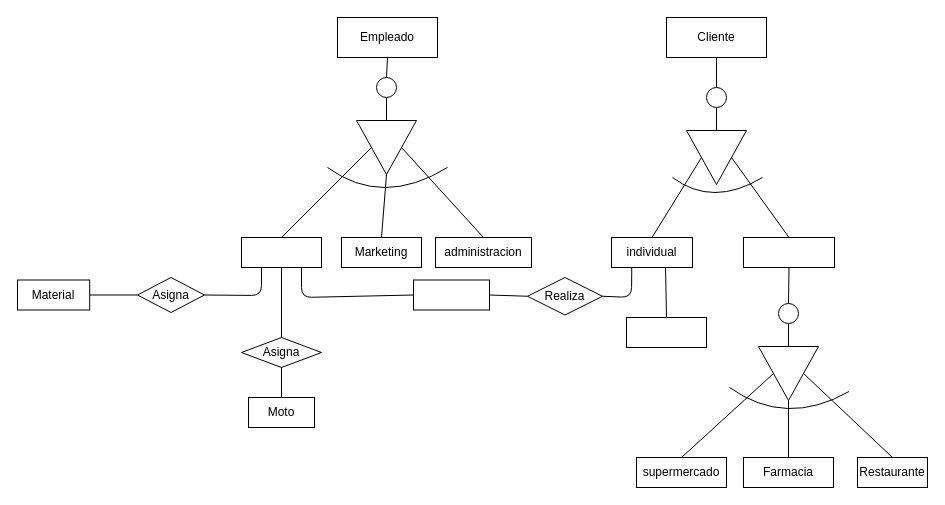
Image size: 945x505. Some labels were removed from this diagram. The shapes that lost their labels are listed below. From the top down, each one's centre as x and y in pixels, then its label:
point 281,252: Motorizado
point 788,252: Empresarial
point 451,294: Pedido
point 666,332: Pagos
